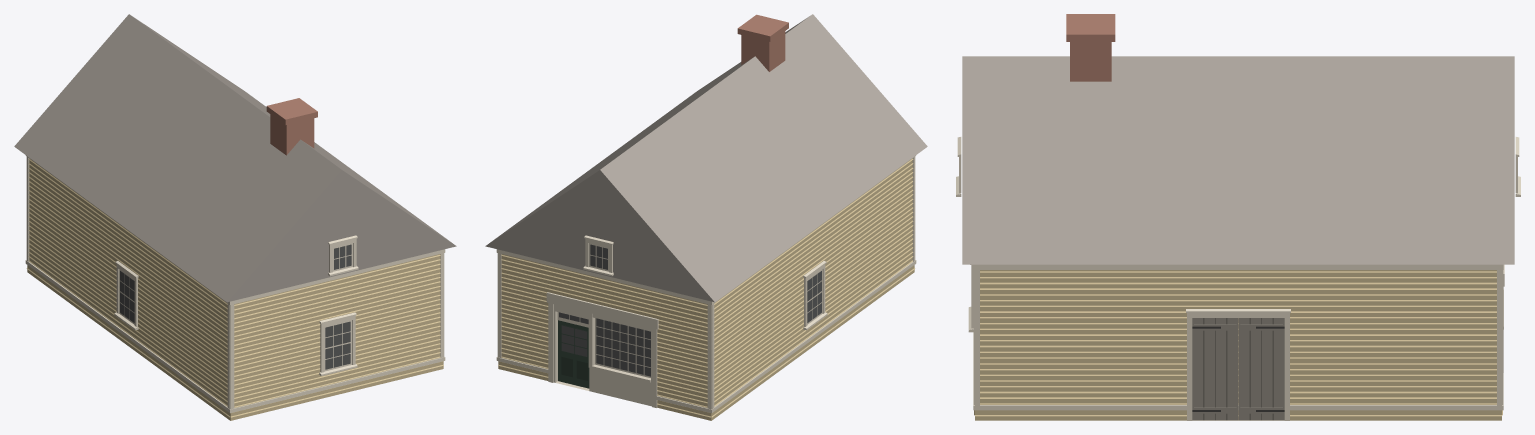
File: recon_1835_core_c2_050__inferred_1835.glb
The picture shows the model from 3 angles, left to right: view 1: azimuth 30°, elevation 25°; view 2: azimuth 150°, elevation 25°; view 3: azimuth 270°, elevation 25°; orthographic projection. The views are drawn at different scales.
Visible parts, largest first — view 1: recon_1835_core_c2_050__inferred_1835; view 2: recon_1835_core_c2_050__inferred_1835; view 3: recon_1835_core_c2_050__inferred_1835.
Part boxes in pixels (left/top/right/bottom): recon_1835_core_c2_050__inferred_1835: left=14, top=14, right=456, bottom=420; recon_1835_core_c2_050__inferred_1835: left=485, top=14, right=927, bottom=420; recon_1835_core_c2_050__inferred_1835: left=956, top=14, right=1520, bottom=420.
Size of the model in its own units: 6.9 by 7.27 by 11.32.
